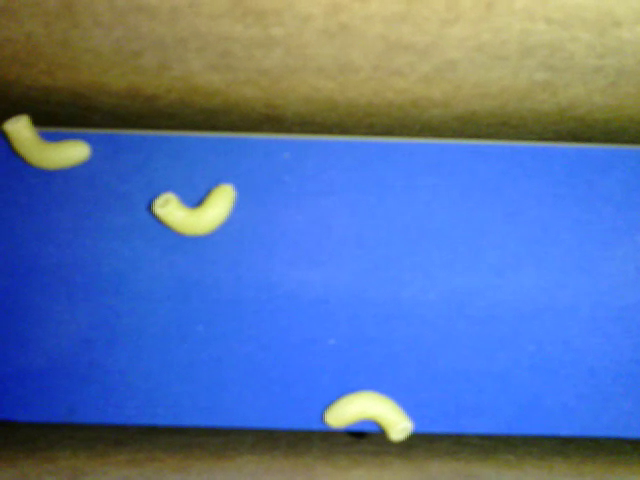elbow: (2, 113, 91, 170), (322, 390, 414, 441), (152, 182, 236, 237)
